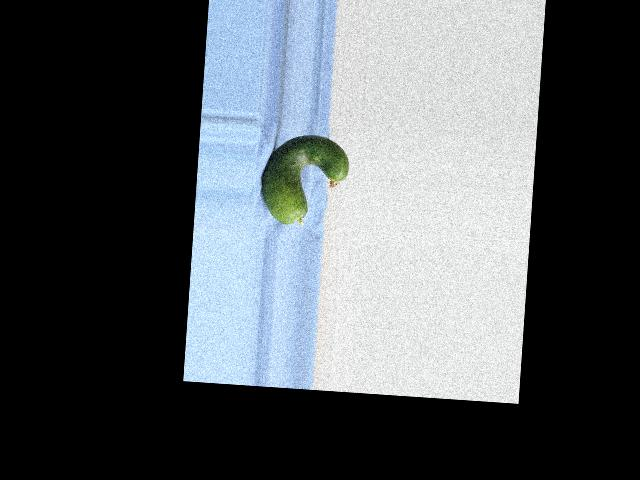cucumber: (259, 132, 350, 228)
